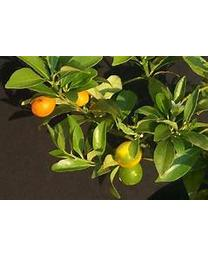lemon: (113, 139, 143, 167), (30, 90, 56, 119), (119, 161, 144, 184)
